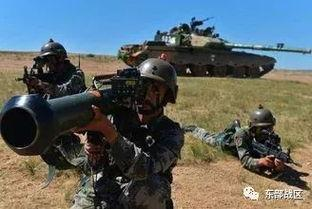Fall-Detected: (181, 97, 300, 176)
